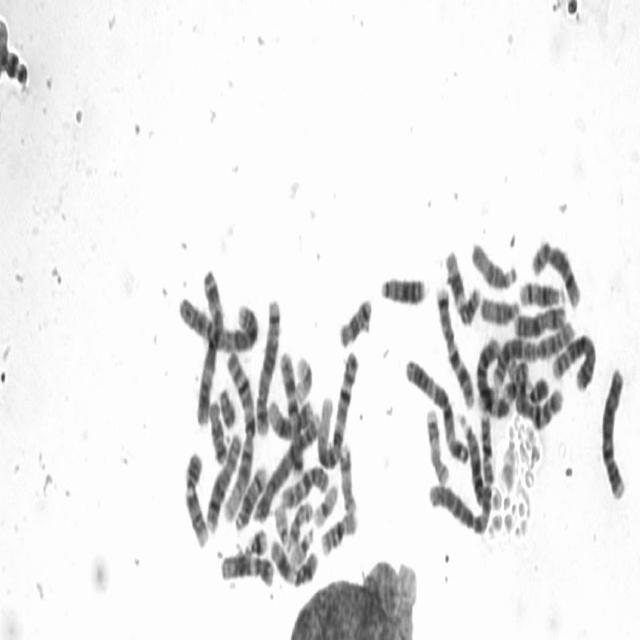A1: (220, 342, 258, 524), (312, 341, 360, 471)
A2: (489, 311, 576, 390), (174, 284, 260, 354)
A3: (401, 348, 471, 466), (191, 259, 226, 427)
B4: (251, 399, 322, 524), (597, 357, 628, 501)
B5: (252, 288, 282, 439), (548, 323, 598, 393)
C10: (513, 356, 565, 436), (277, 457, 330, 511)
C11: (441, 241, 481, 328), (267, 529, 319, 589)
C12: (216, 541, 276, 588), (264, 388, 315, 441)
C6: (423, 463, 503, 536), (472, 333, 518, 423)
C7: (432, 276, 476, 410), (275, 345, 305, 477)
C8: (203, 426, 244, 535), (527, 230, 582, 310)
C9: (180, 442, 210, 550), (504, 350, 550, 406)
D13: (455, 404, 491, 511), (376, 264, 428, 307)
D14: (232, 457, 268, 533), (515, 271, 567, 309)
D15: (467, 231, 519, 292), (476, 286, 522, 326)
E16: (317, 501, 359, 557), (476, 406, 495, 486)
E17: (423, 400, 450, 486), (335, 435, 358, 516)
E18: (335, 287, 374, 348), (205, 392, 229, 466)
F19: (310, 475, 340, 529), (291, 347, 314, 404)
F20: (284, 493, 314, 552), (497, 375, 518, 410)
G21: (4, 40, 31, 92), (244, 519, 269, 557)
G22: (287, 520, 315, 568), (270, 494, 291, 548)
X: (510, 296, 568, 338)
Y: (215, 378, 237, 431)
